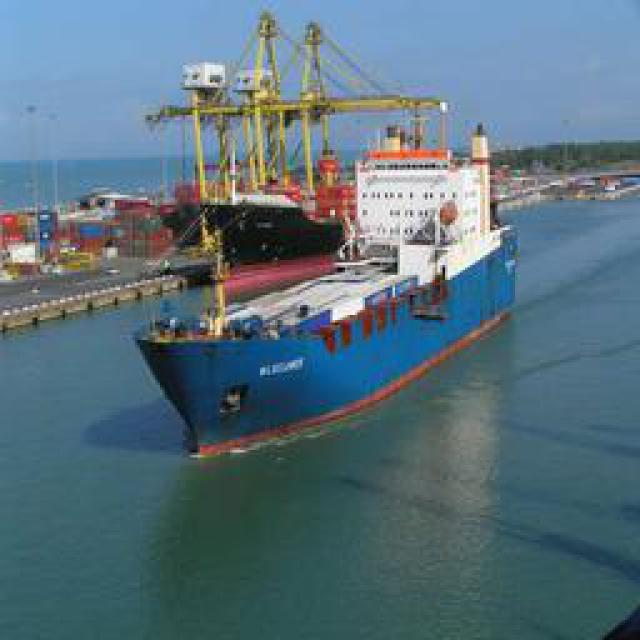Ship: (127, 30, 517, 460)
